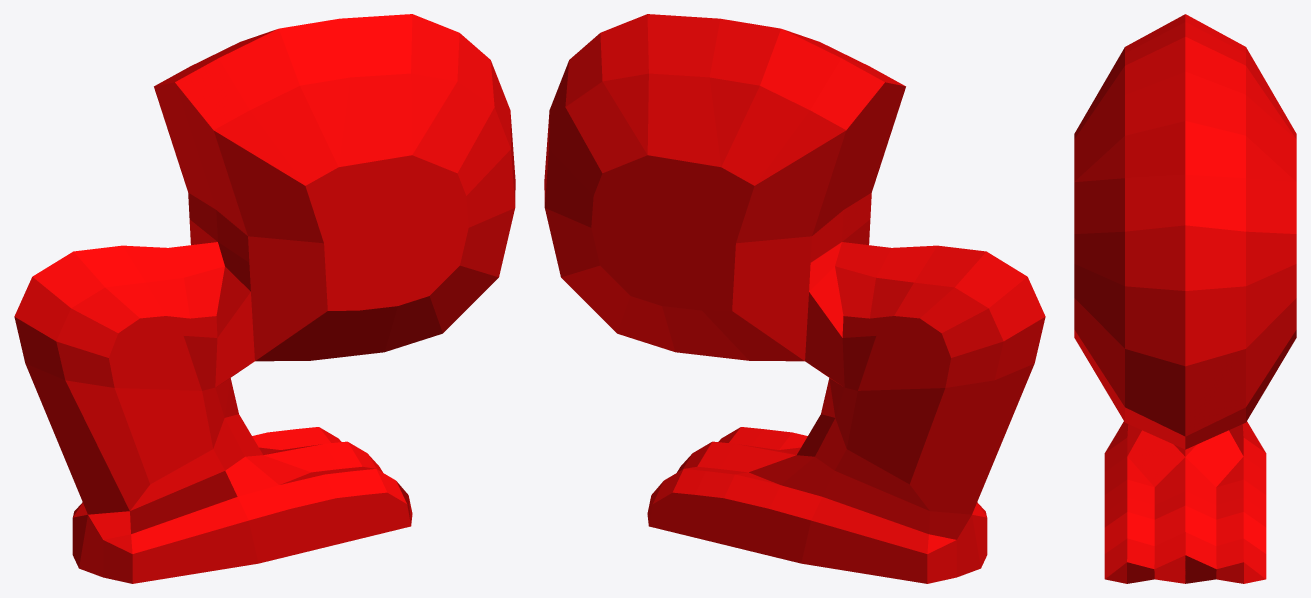
Rendered from Mo_Tweasel_Leg.fbx.
3 views of the same model, side by side, from view 1: azimuth 30°, elevation 25°; view 2: azimuth 150°, elevation 25°; view 3: azimuth 270°, elevation 25° (orthographic).
Parts seen in each view (by area): view 1: Leg.001; view 2: Leg.001; view 3: Leg.001.
Boxes of the visible parts, <box> form: Leg.001: <box>14,14,515,583</box>; Leg.001: <box>544,14,1045,583</box>; Leg.001: <box>1074,14,1296,583</box>.
Bounding box in the file's own units: 341 × 319 × 130.
